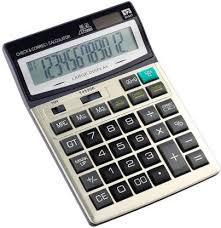Calculator: (2, 2, 221, 228)
